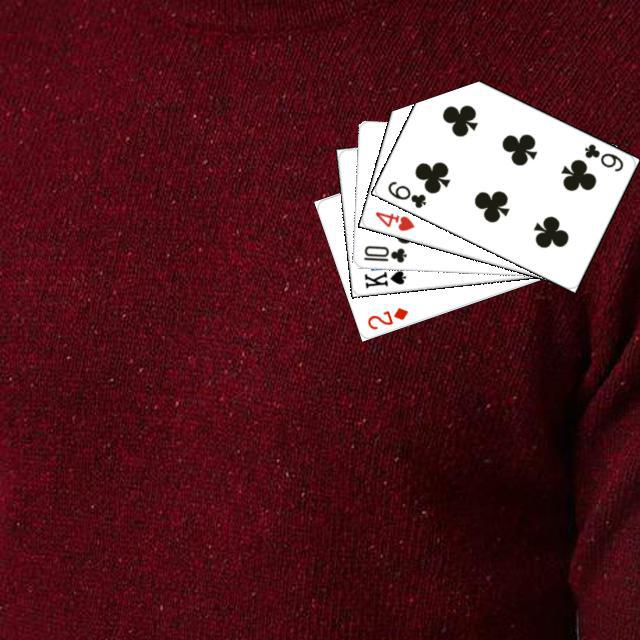10c: (359, 240, 408, 264)
2d: (362, 302, 410, 331)
4h: (370, 206, 416, 233)
6c: (579, 139, 625, 173), (383, 176, 428, 210)
Ks: (359, 266, 408, 290)
